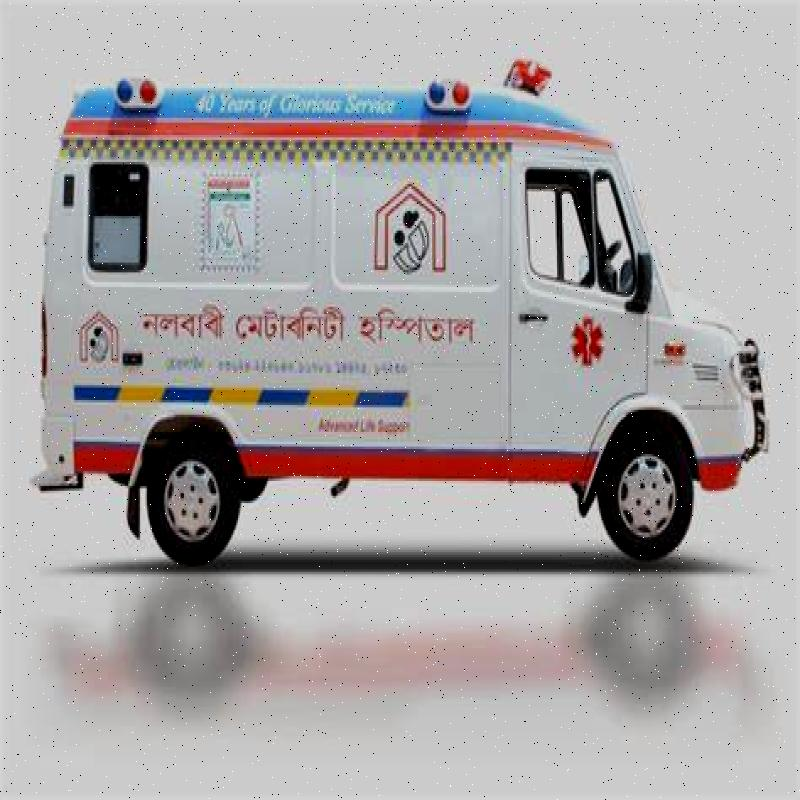AmbulanceSiren: (505, 42, 561, 124), (430, 55, 488, 125)
